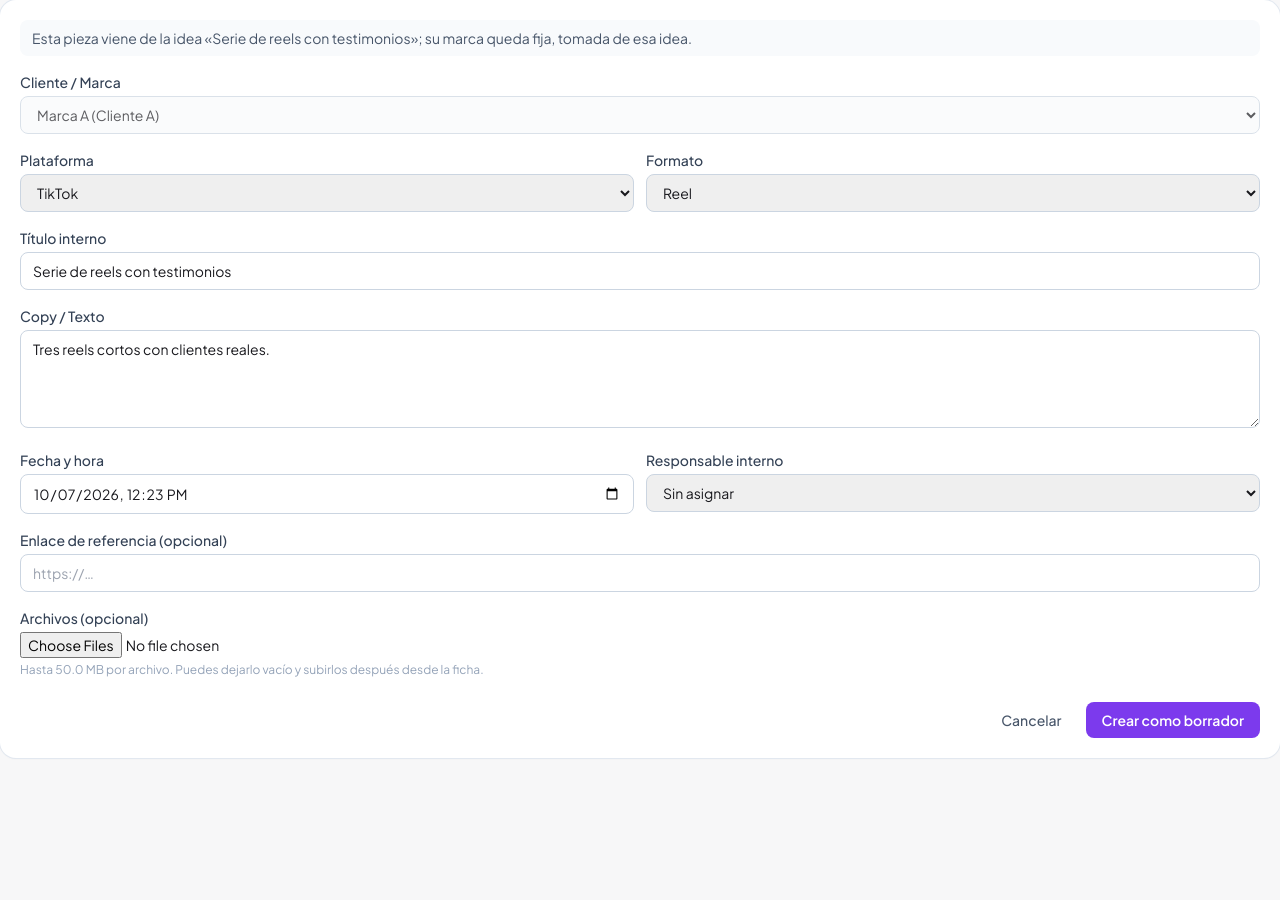
Scenario: ContentPieceForm — reintento del vínculo idea→pieza tras un fallo › el botón de reintento aparece cuando la pieza se creó, algo posterior falló y hay una idea de origen
What coordinates should you click on to do the following:
click the button "Crear como borrador"
I would click on:
 (1173, 720)
Its box is [1086,702,1260,738].
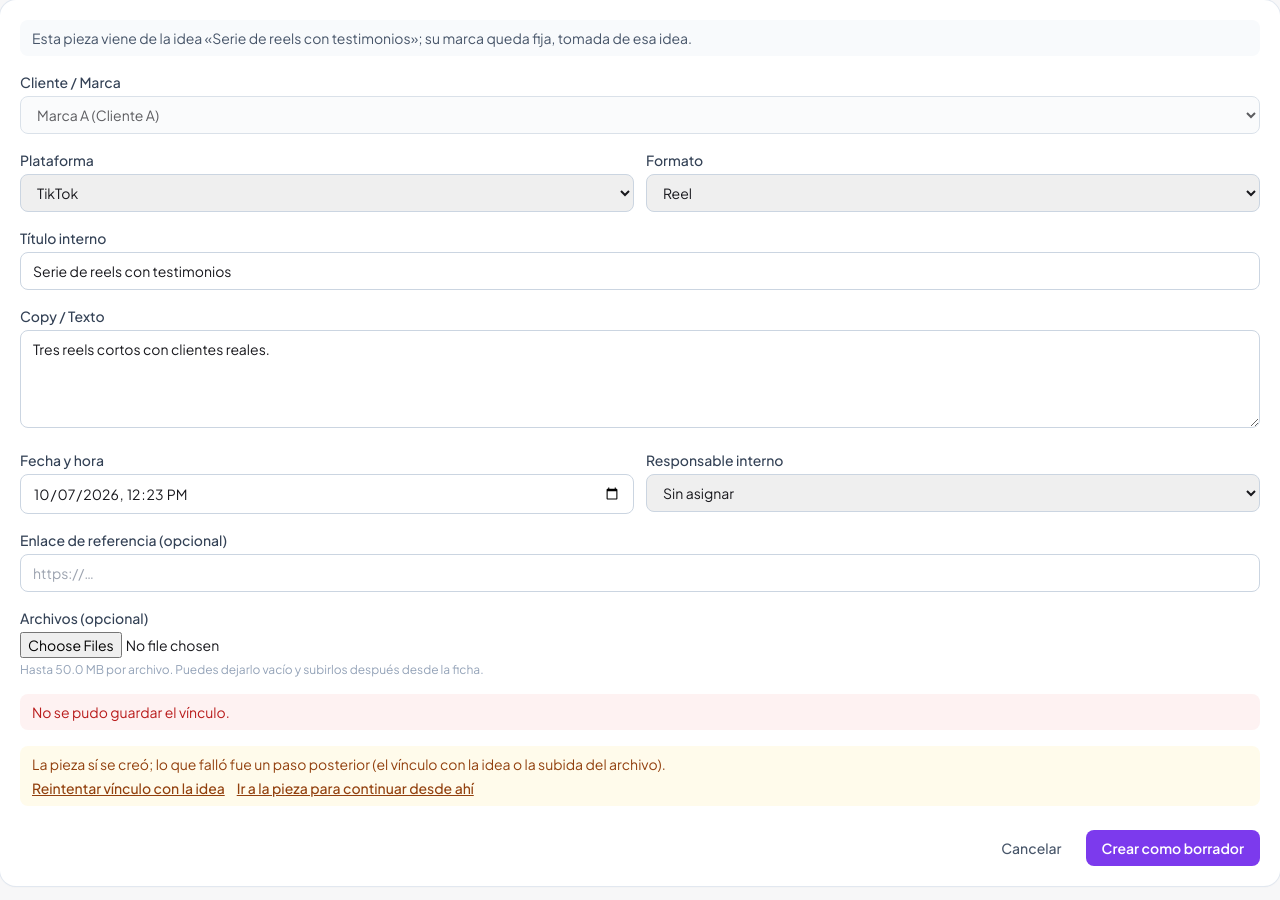
Result: the text "No se pudo guardar el vínculo." is shown at [20,694,1260,730]
Result: the button "Reintentar vínculo con la idea" is shown at [32,778,225,798]
Result: the button "Ir a la pieza para continuar desde ahí" is shown at [237,778,474,798]
